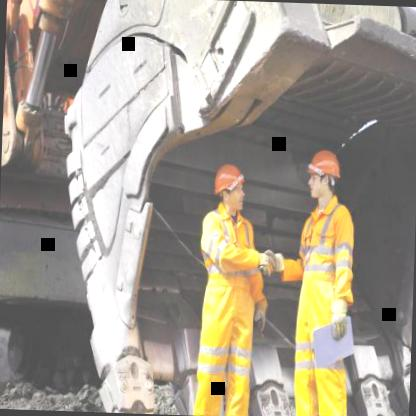helmet: (302, 144, 346, 206), (210, 158, 248, 216)
